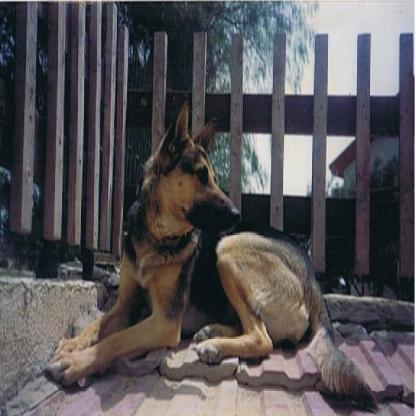german shepherd: (39, 100, 378, 410)
